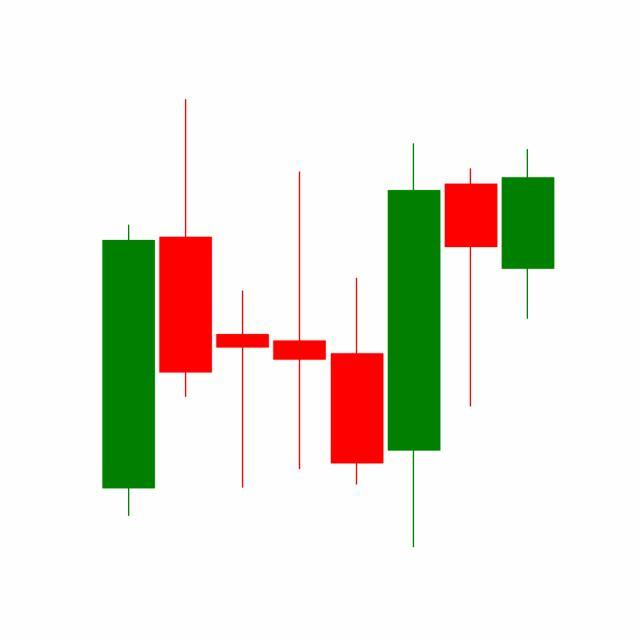Hikkake Pattern: (270, 139, 555, 549)
